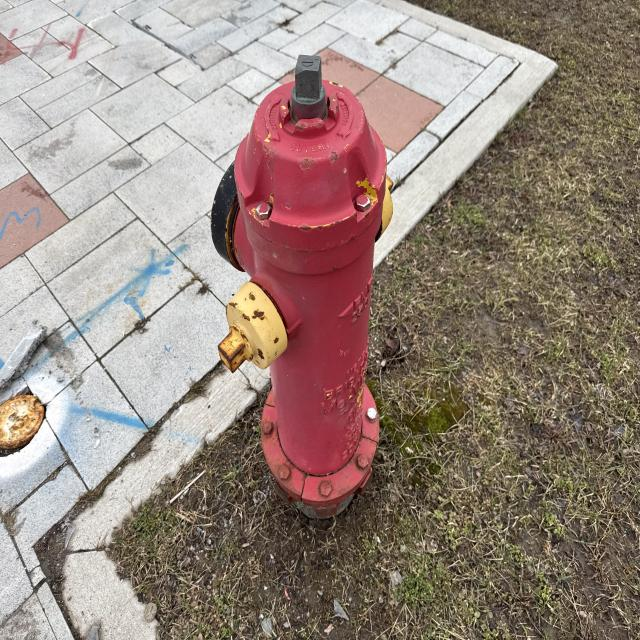Fire hydrant: (208, 53, 395, 518)
